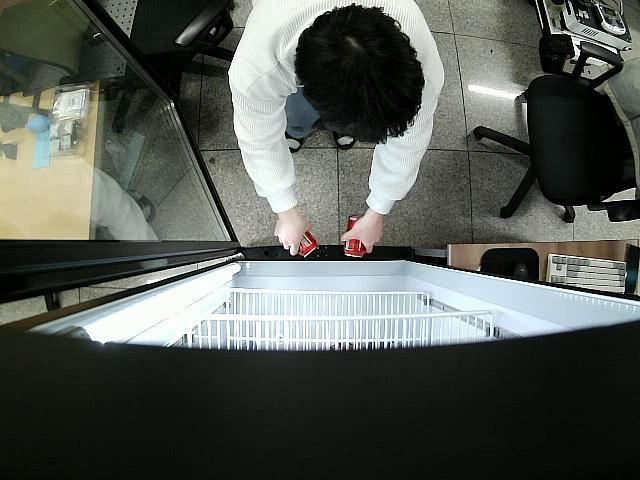11_cocaColaZero: (343, 216, 364, 260), (300, 232, 318, 262)
